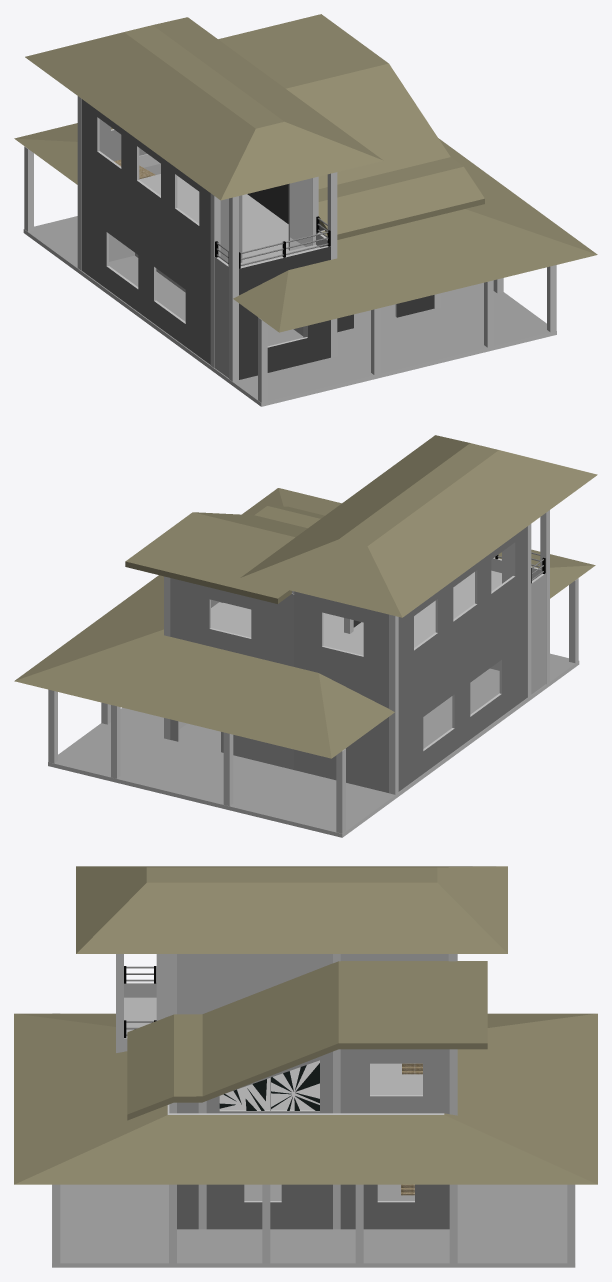
The model's file is Casa C3-01.fbx.
3 views of the same model, one above another, from view 1: azimuth 30°, elevation 25°; view 2: azimuth 150°, elevation 25°; view 3: azimuth 270°, elevation 25° (orthographic). The views are drawn at different scales.
Parts seen in each view (by area): view 1: Cubo.002; view 2: Cubo.002; view 3: Cubo.002.
Boxes of the visible parts, x1,y1,x2,y2 form: Cubo.002: [14, 14, 597, 406]; Cubo.002: [14, 435, 597, 837]; Cubo.002: [14, 866, 597, 1267].
Bounding box in the file's own units: 3548 × 2308 × 4669.
14 materials, 2 textured.
